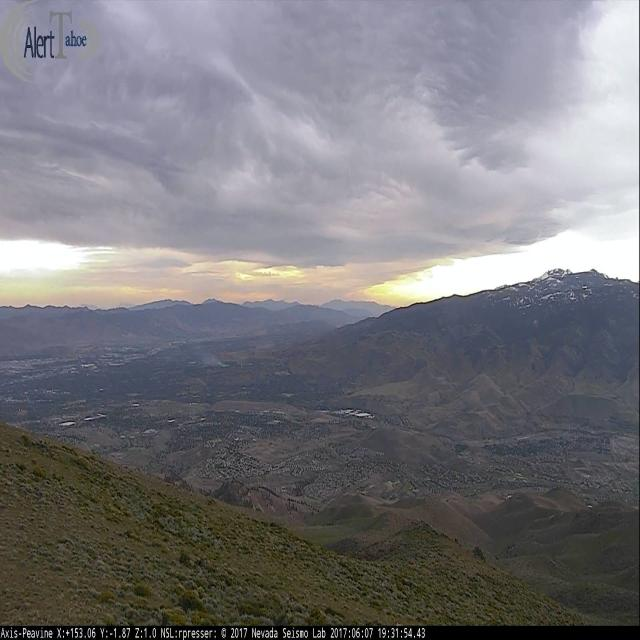smoke: (201, 350, 229, 368)
